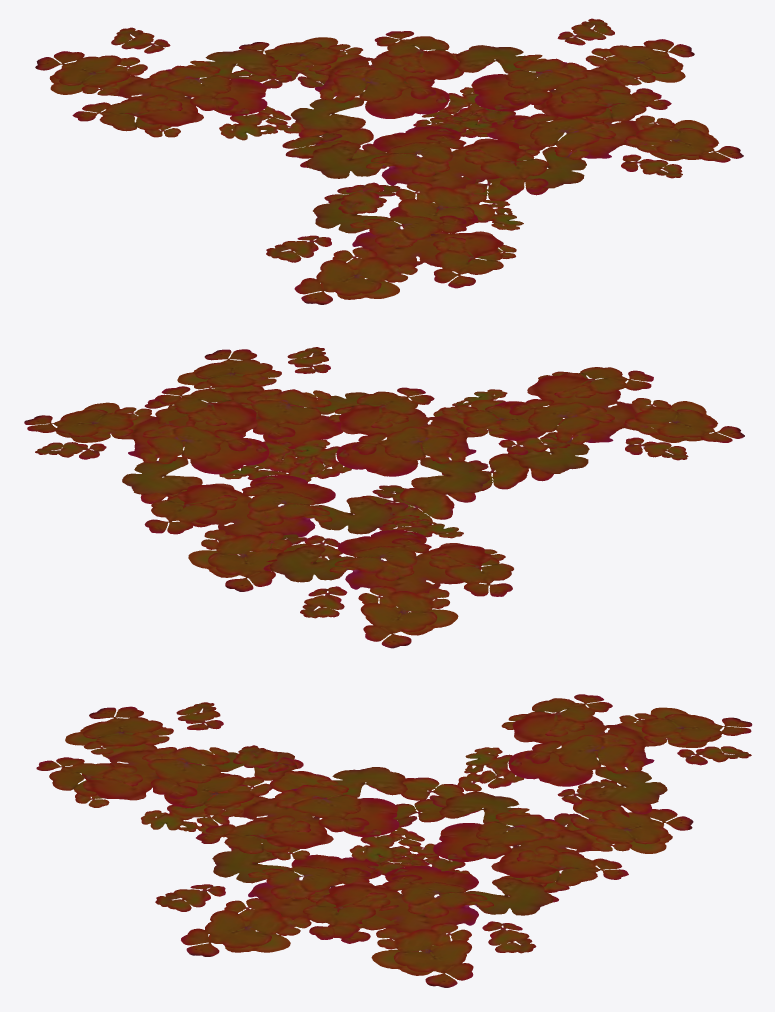
3 views of the same model, one above another, from view 1: azimuth 30°, elevation 25°; view 2: azimuth 150°, elevation 25°; view 3: azimuth 270°, elevation 25° (orthographic). The views are drawn at different scales.
Parts seen in each view (by area): view 1: SM_UmbS_Sorrel_02_LOD0; view 2: SM_UmbS_Sorrel_02_LOD0; view 3: SM_UmbS_Sorrel_02_LOD0.
Part boxes in pixels (x1,y1,x2,y2): SM_UmbS_Sorrel_02_LOD0: (35, 18, 743, 304); SM_UmbS_Sorrel_02_LOD0: (24, 347, 744, 648); SM_UmbS_Sorrel_02_LOD0: (36, 694, 752, 987).
Size of the model in its own units: 0.7674 by 0.0438 by 0.8227.
1 material, 1 textured.
